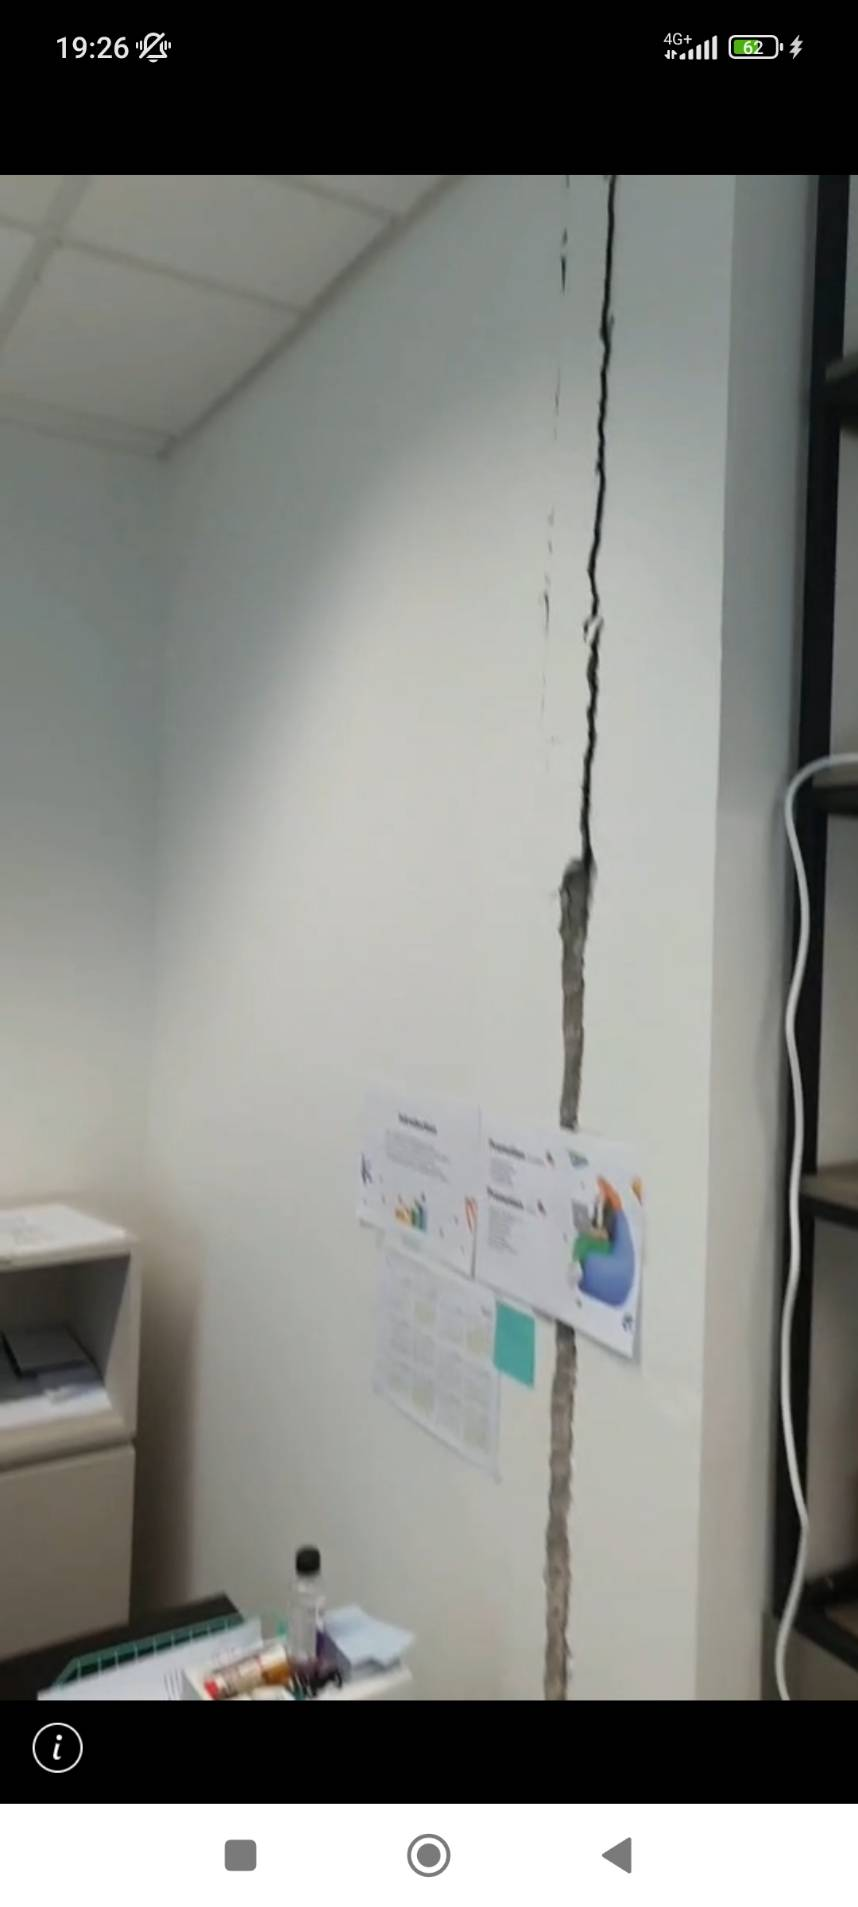Medium: (462, 195, 699, 885)
